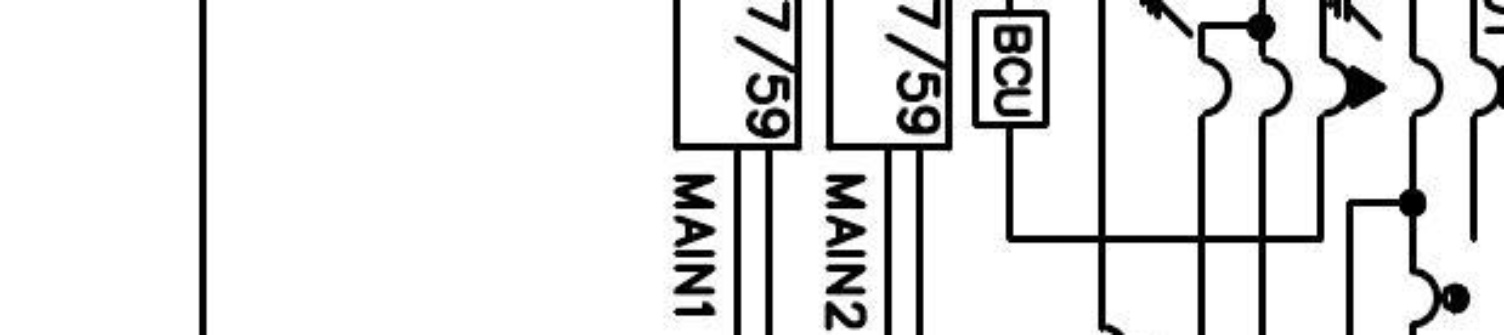BCU: (970, 8, 1051, 130)
